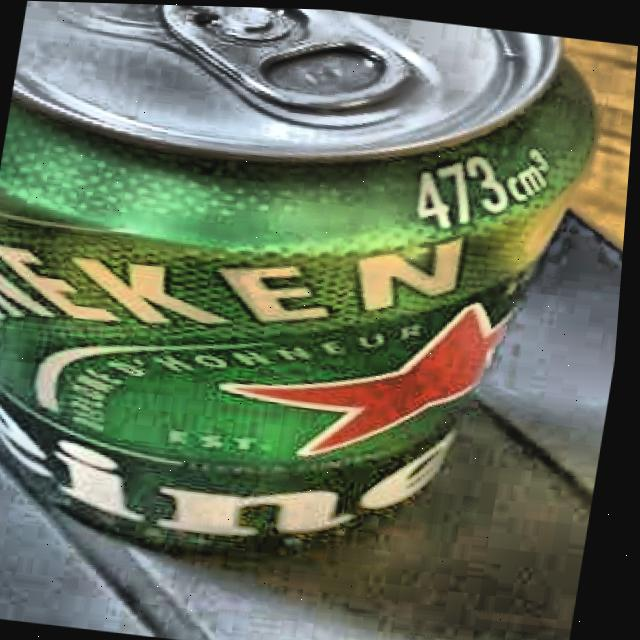metal: (0, 0, 621, 585)
